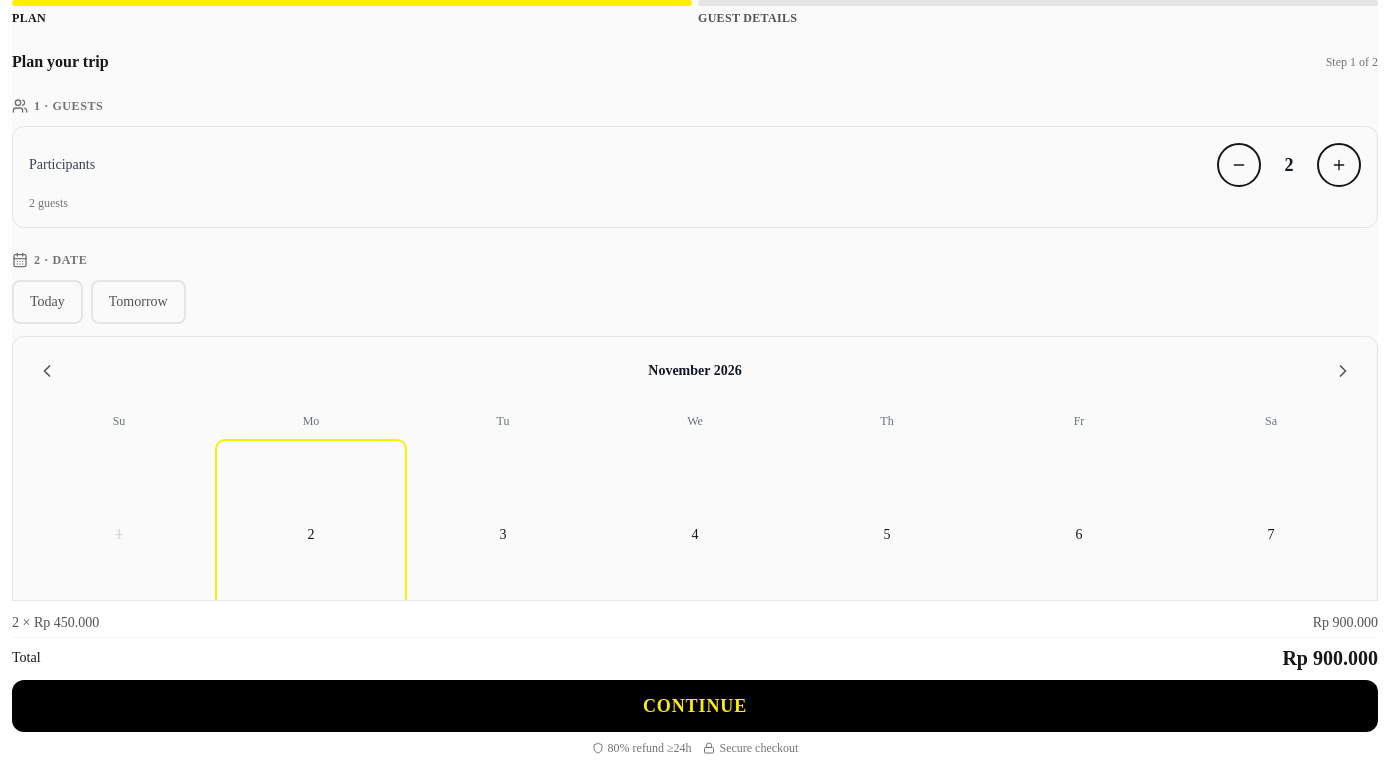
Test: ExperienceBookingWidget two-step checkout › returns to the plan step from the recap Edit action
Click the button "Continue" at (695,706), box [12,680,1378,732]
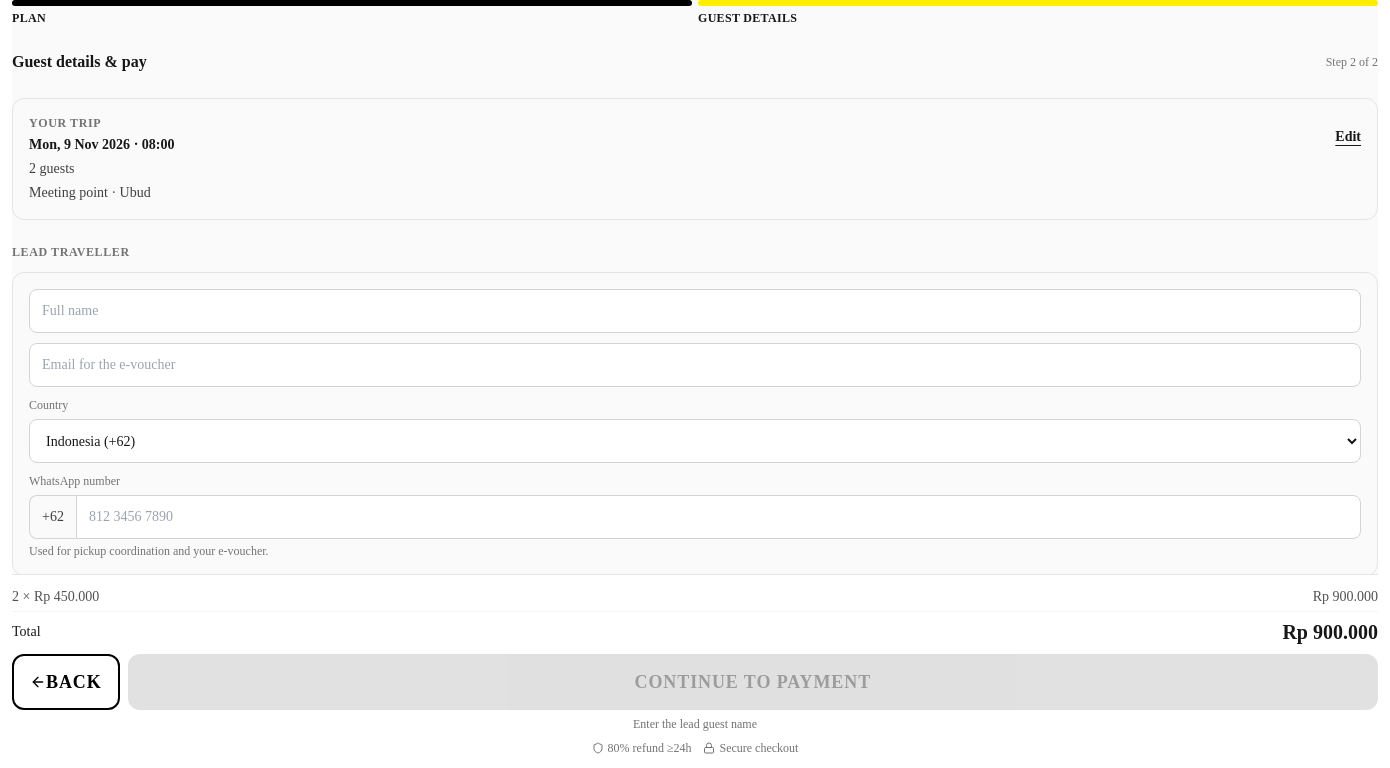
Click the button "Edit" at (1348,137), box [1335,115,1361,159]
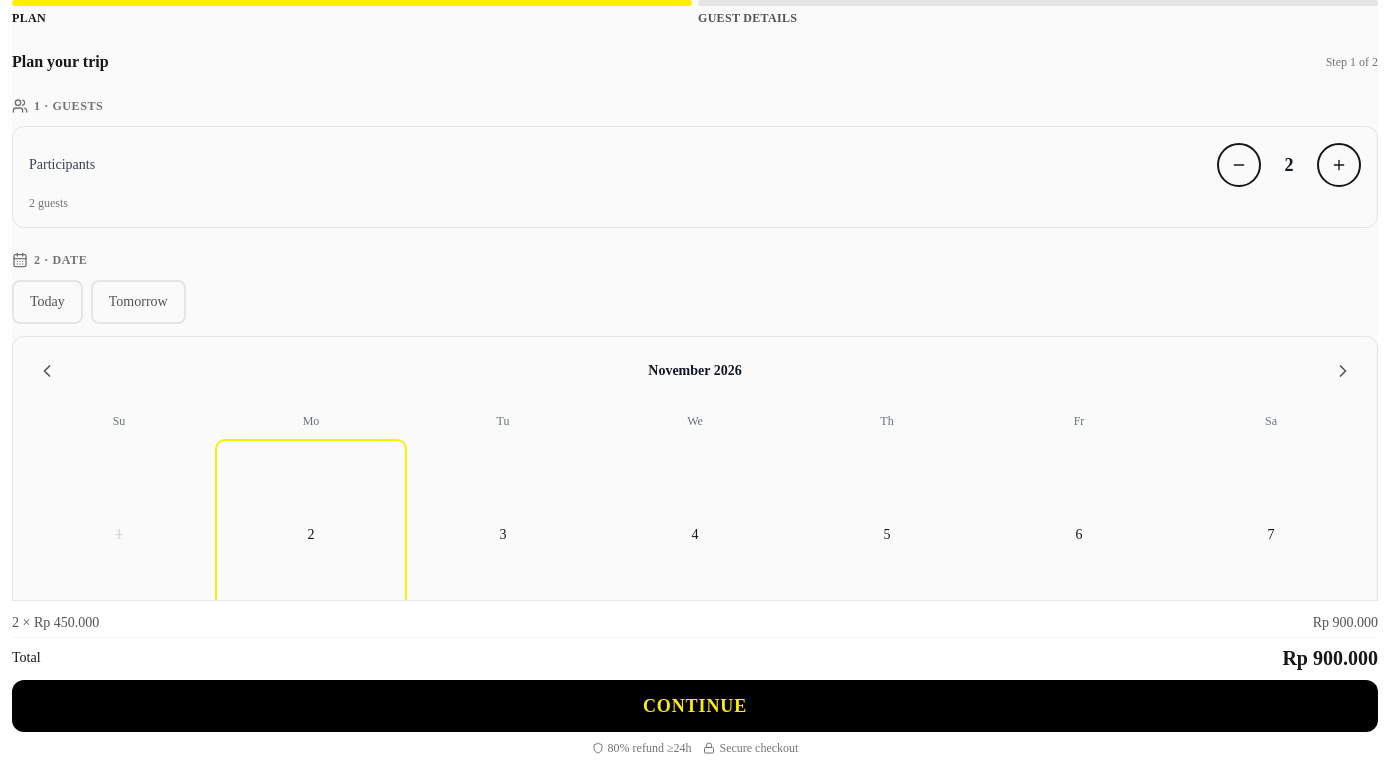
Expected: the button "Continue" is enabled, [12,680,1378,732]
Now the heading "Plan your trip" is shown, box [12,50,109,74]
Now the heading "Lead traveller" is gone
